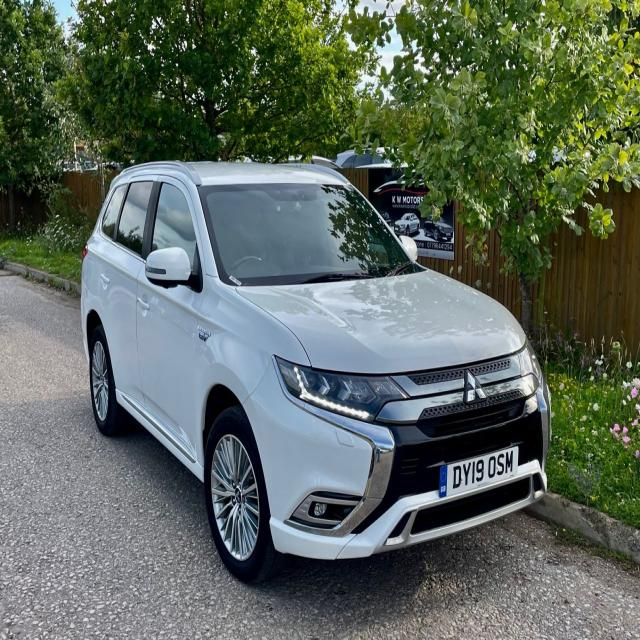light_vehicle: (79, 158, 553, 586)
